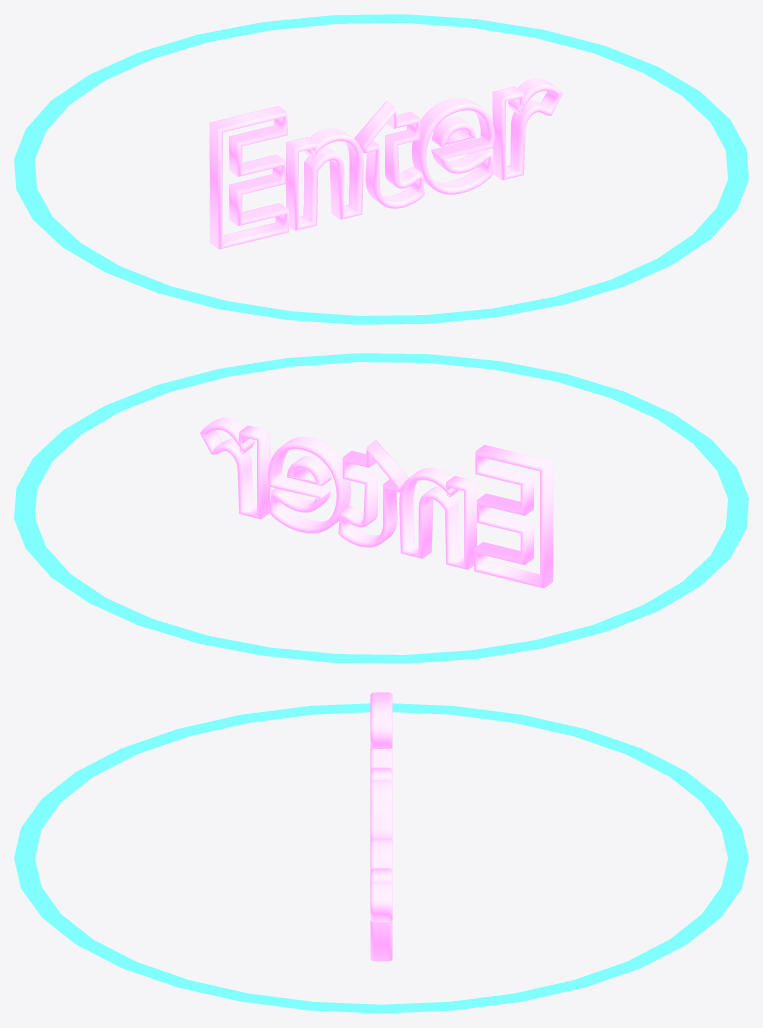
File: Enter.glb
The picture shows the model from 3 angles, top to bottom: view 1: azimuth 30°, elevation 25°; view 2: azimuth 150°, elevation 25°; view 3: azimuth 270°, elevation 25°; orthographic projection.
Visible parts, largest first — view 1: Enter, Circle; view 2: Enter, Circle; view 3: Circle, Enter.
Part boxes in pixels (bbox=[...]): Enter: bbox=[209, 78, 562, 249]; Circle: bbox=[14, 14, 748, 324]; Enter: bbox=[200, 417, 553, 588]; Circle: bbox=[14, 353, 748, 663]; Circle: bbox=[14, 703, 748, 1013]; Enter: bbox=[370, 692, 392, 961].
Size of the model in its own units: 2 by 0.3707 by 2.
